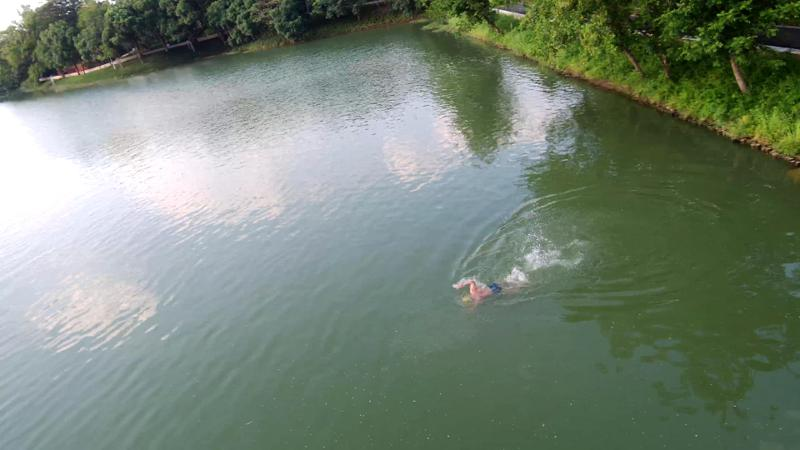swimmers: (452, 275, 526, 313)
